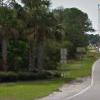Tree: (24, 3, 79, 77)
